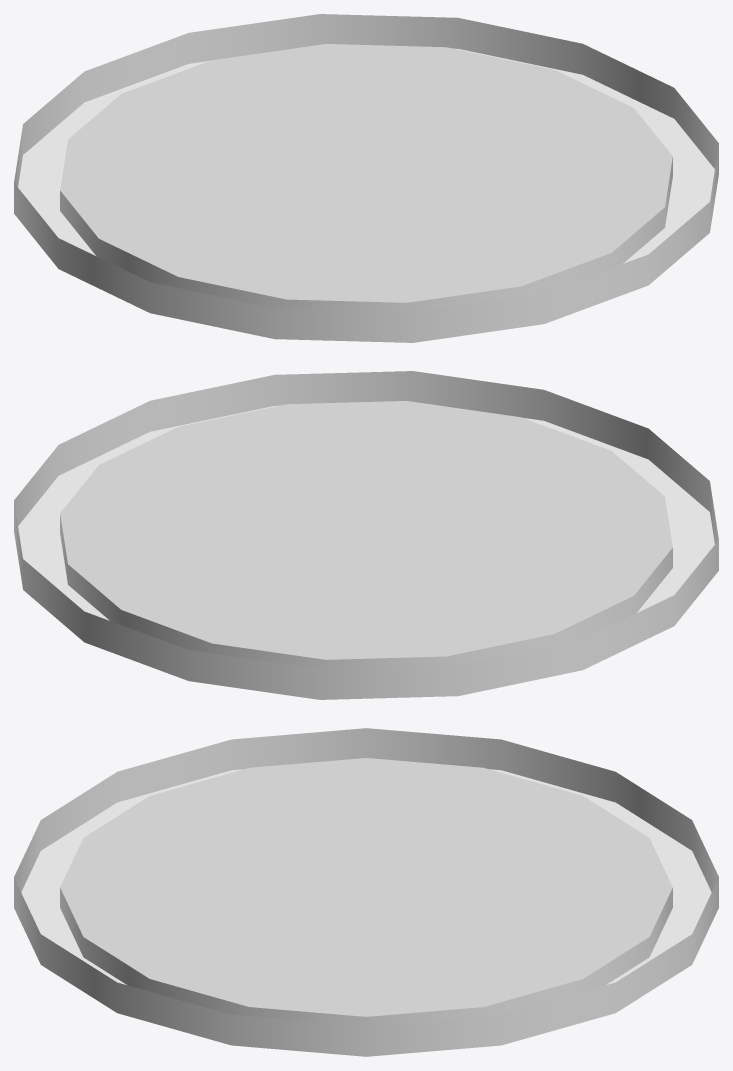
Rendered from Hot Light.fbx.
The picture shows the model from 3 angles, top to bottom: view 1: azimuth 30°, elevation 25°; view 2: azimuth 150°, elevation 25°; view 3: azimuth 270°, elevation 25°; orthographic projection.
Parts seen in each view (by area): view 1: Hot Light.001; view 2: Hot Light.001; view 3: Hot Light.001.
Part boxes in pixels (left/top/right/bottom): Hot Light.001: left=14, top=14, right=718, bottom=342; Hot Light.001: left=14, top=371, right=718, bottom=699; Hot Light.001: left=14, top=728, right=718, bottom=1056.
Size of the model in its own units: 18.52 by 0.8921 by 18.52.
